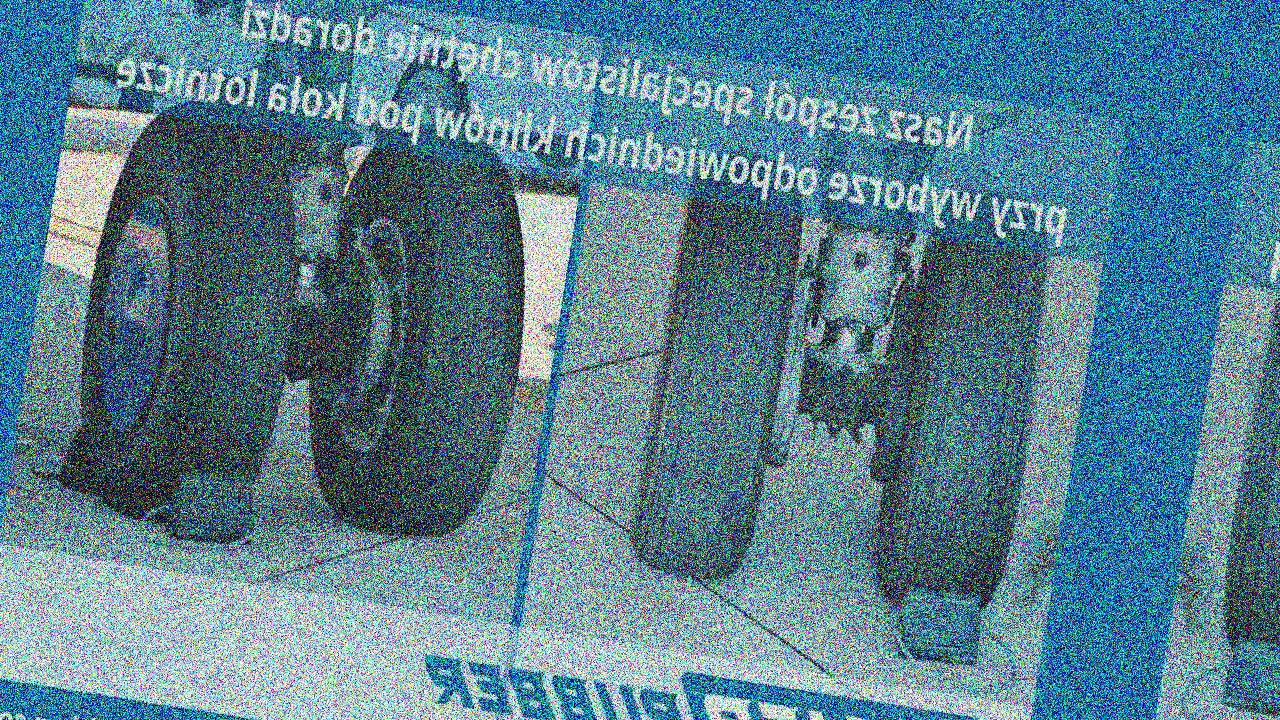chock: (887, 575, 991, 677), (161, 461, 263, 555), (1217, 627, 1280, 720), (50, 425, 106, 498)
wheel: (56, 100, 324, 537), (289, 128, 553, 550), (864, 181, 1070, 626), (622, 147, 818, 587), (1208, 236, 1280, 680), (382, 51, 479, 150)
